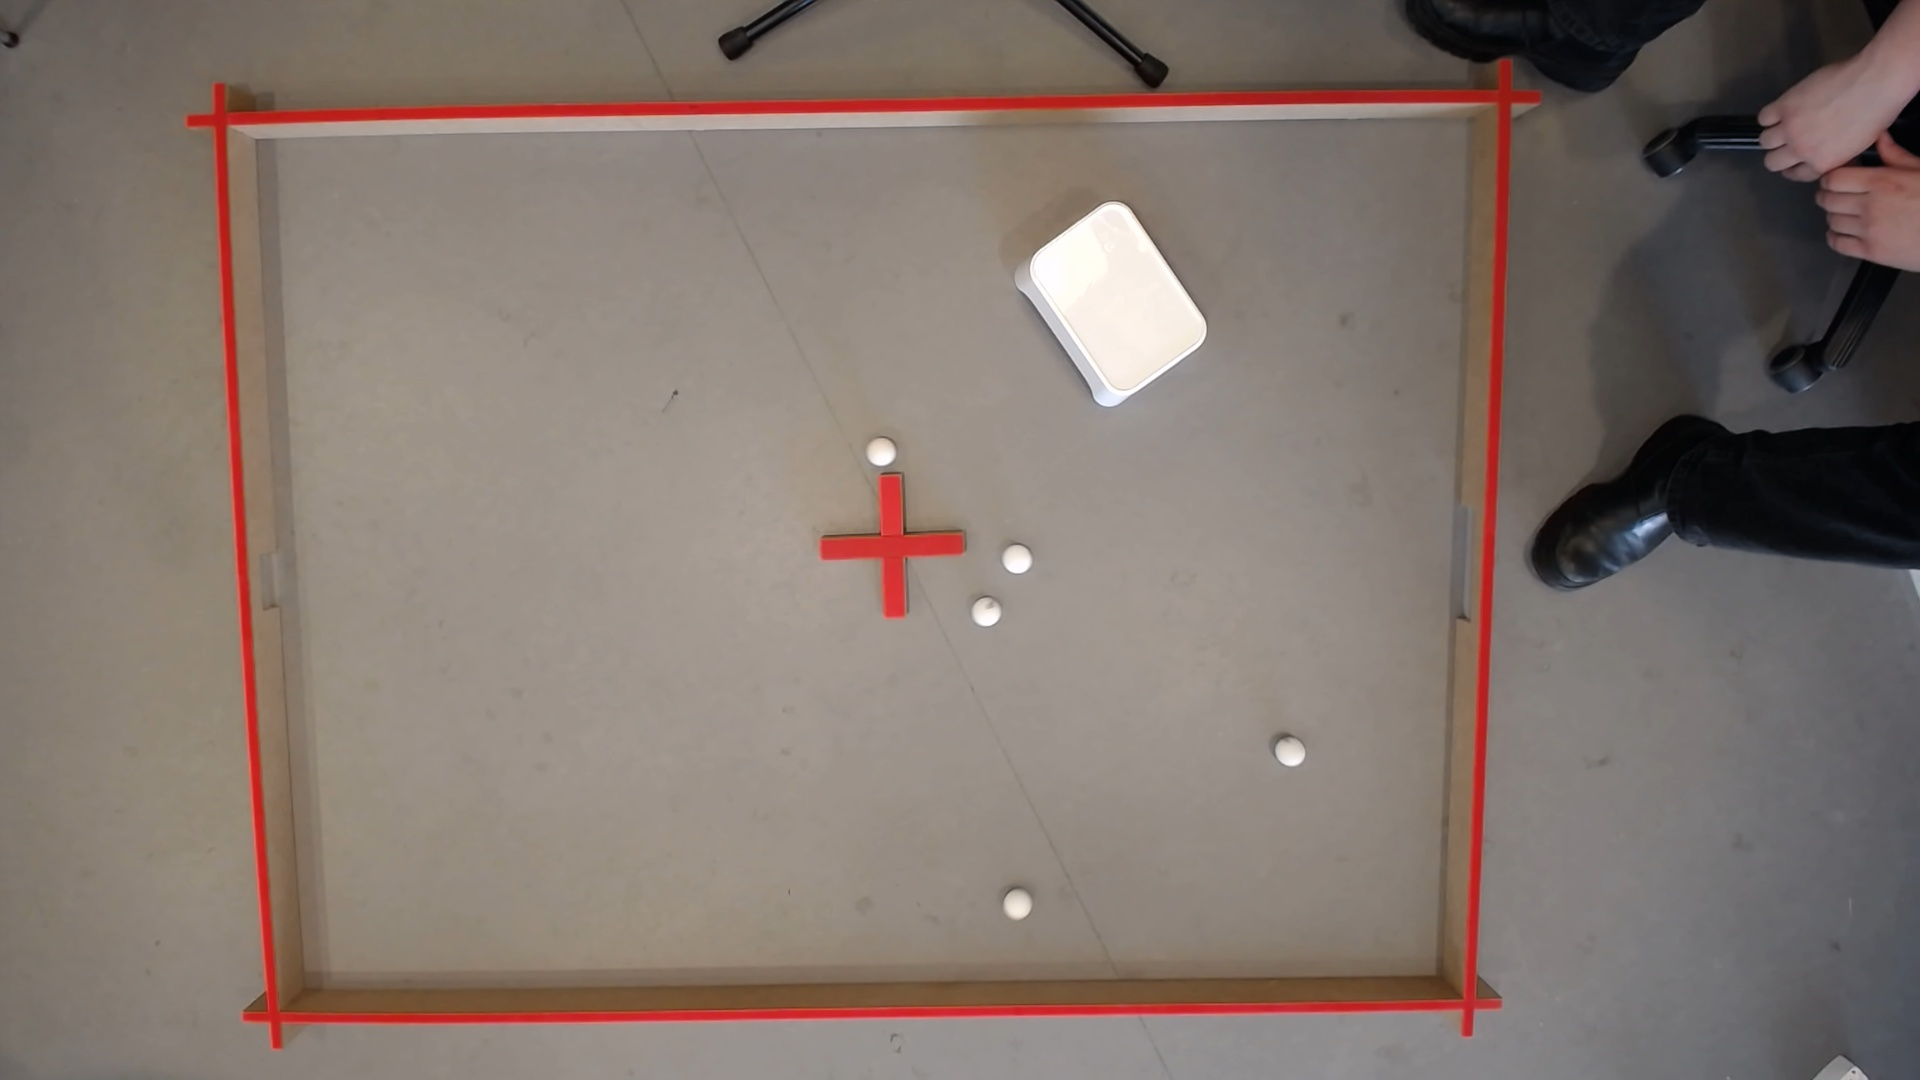balls: (1006, 193, 1216, 413), (998, 541, 1035, 578), (862, 436, 898, 469), (1273, 738, 1307, 770), (969, 599, 1002, 629)
car: (1001, 891, 1033, 922)
